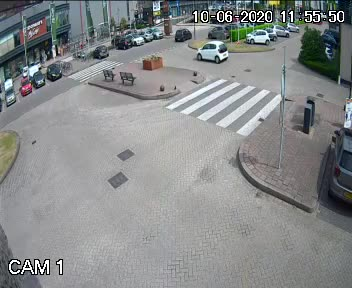car: (199, 40, 228, 68), (172, 27, 191, 44)
